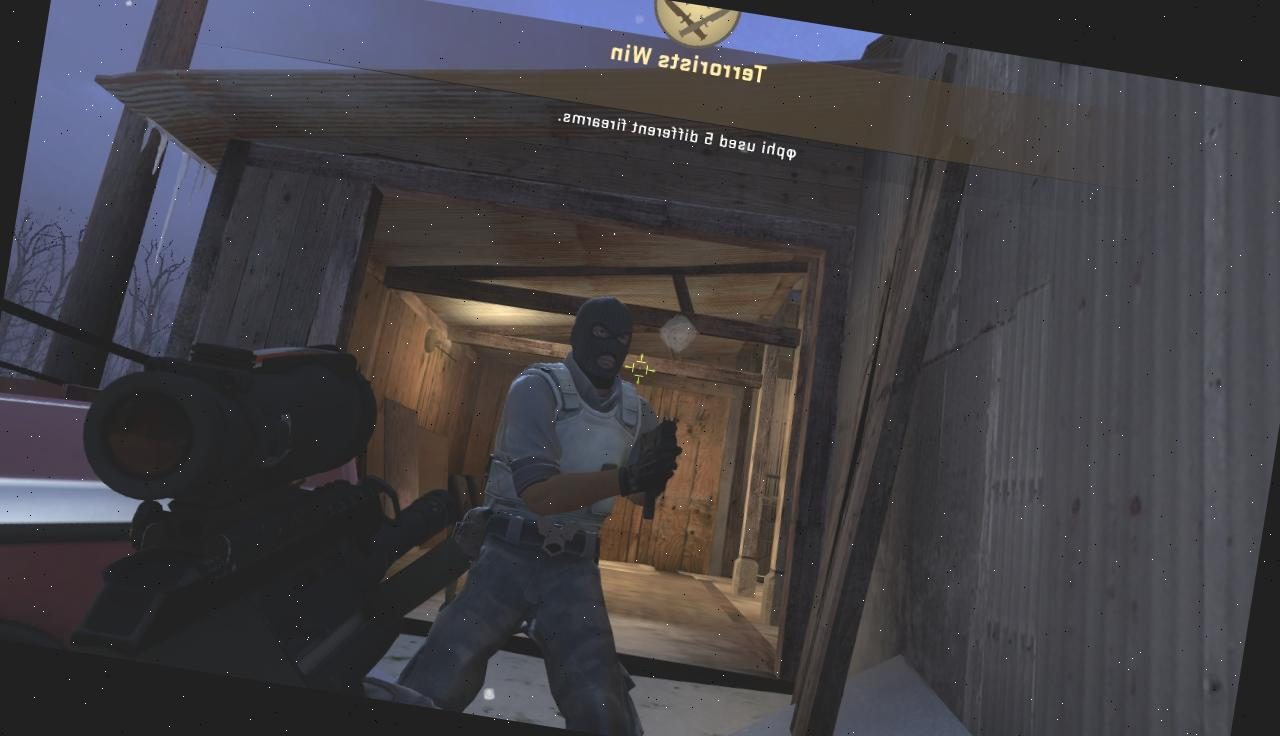rifle: (42, 308, 487, 708)
tt: (447, 282, 670, 726)
tthead: (564, 292, 641, 380)
